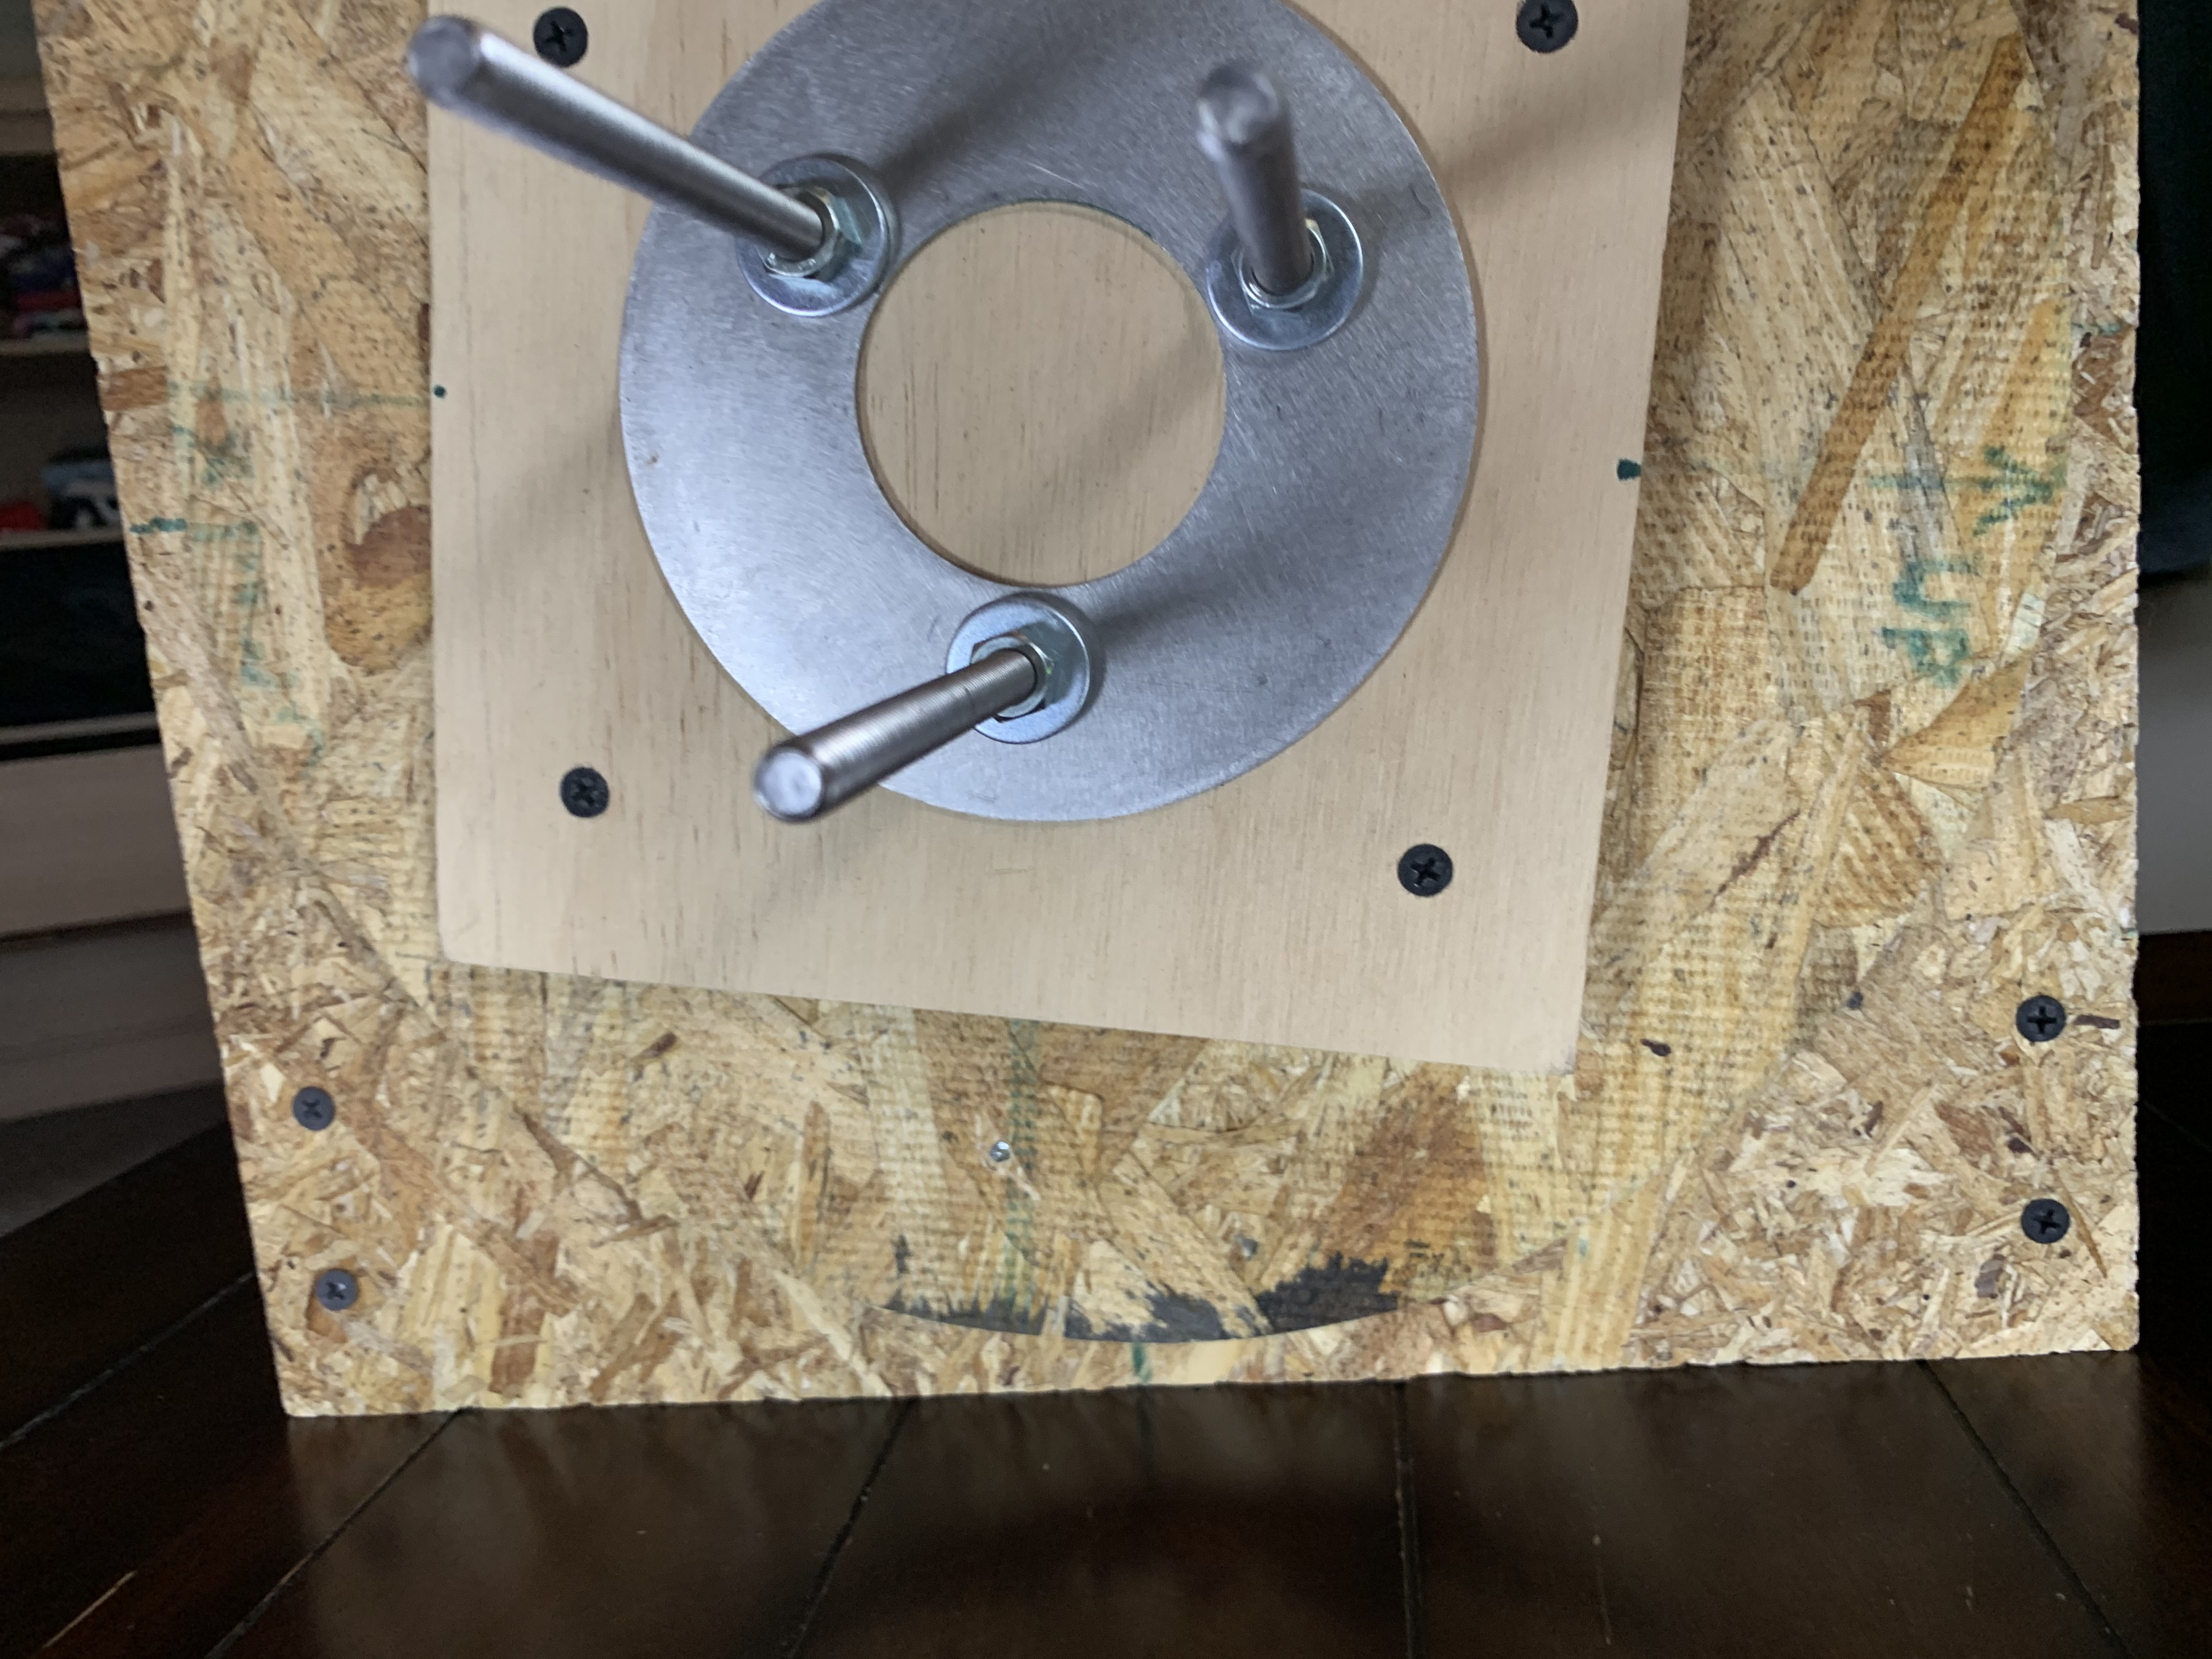bolt: (1197, 190, 1371, 356), (732, 152, 894, 319), (939, 589, 1097, 749)
